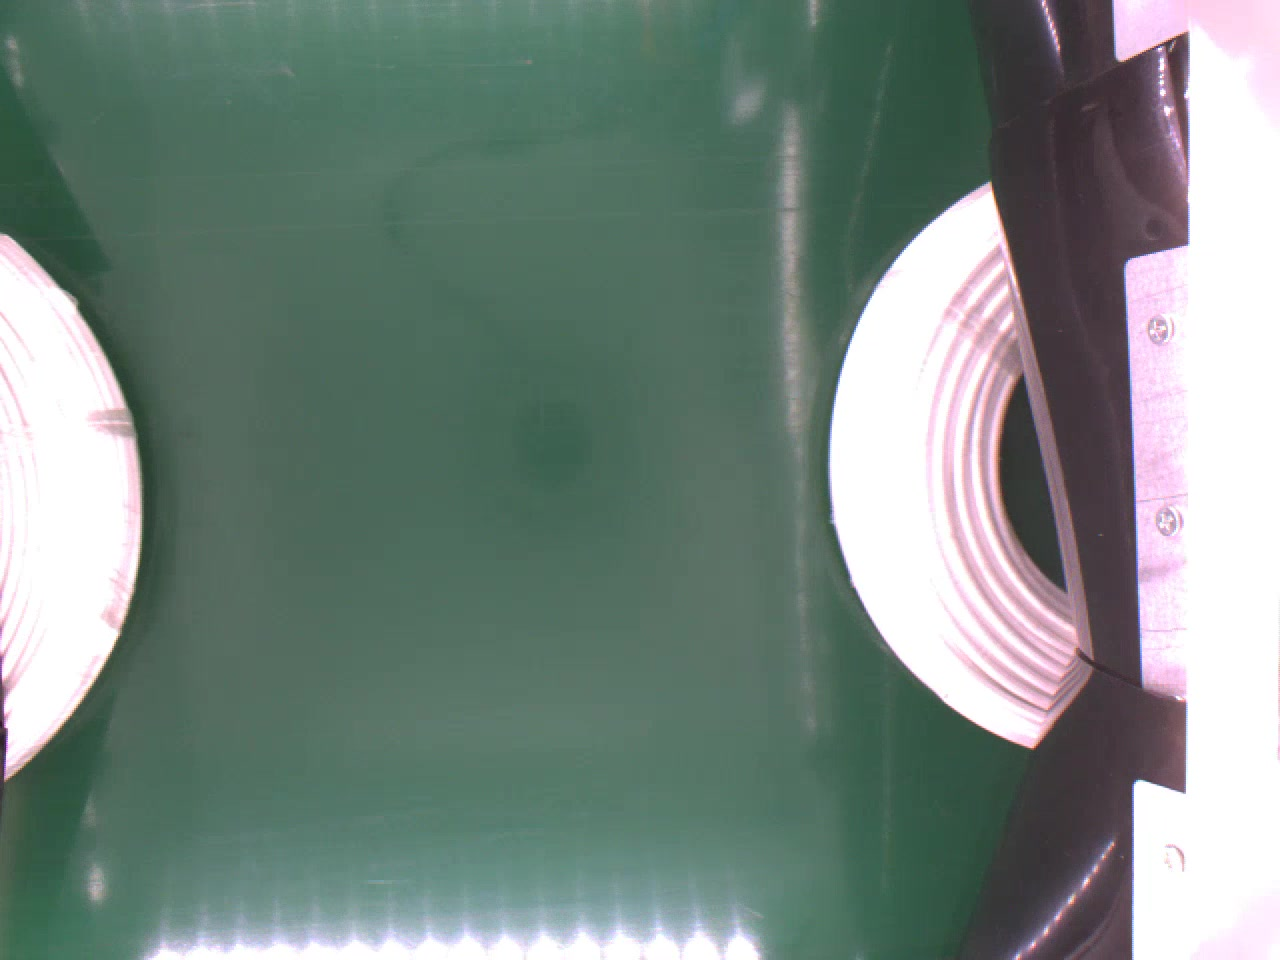white: (826, 172, 1089, 745), (0, 232, 143, 776)
